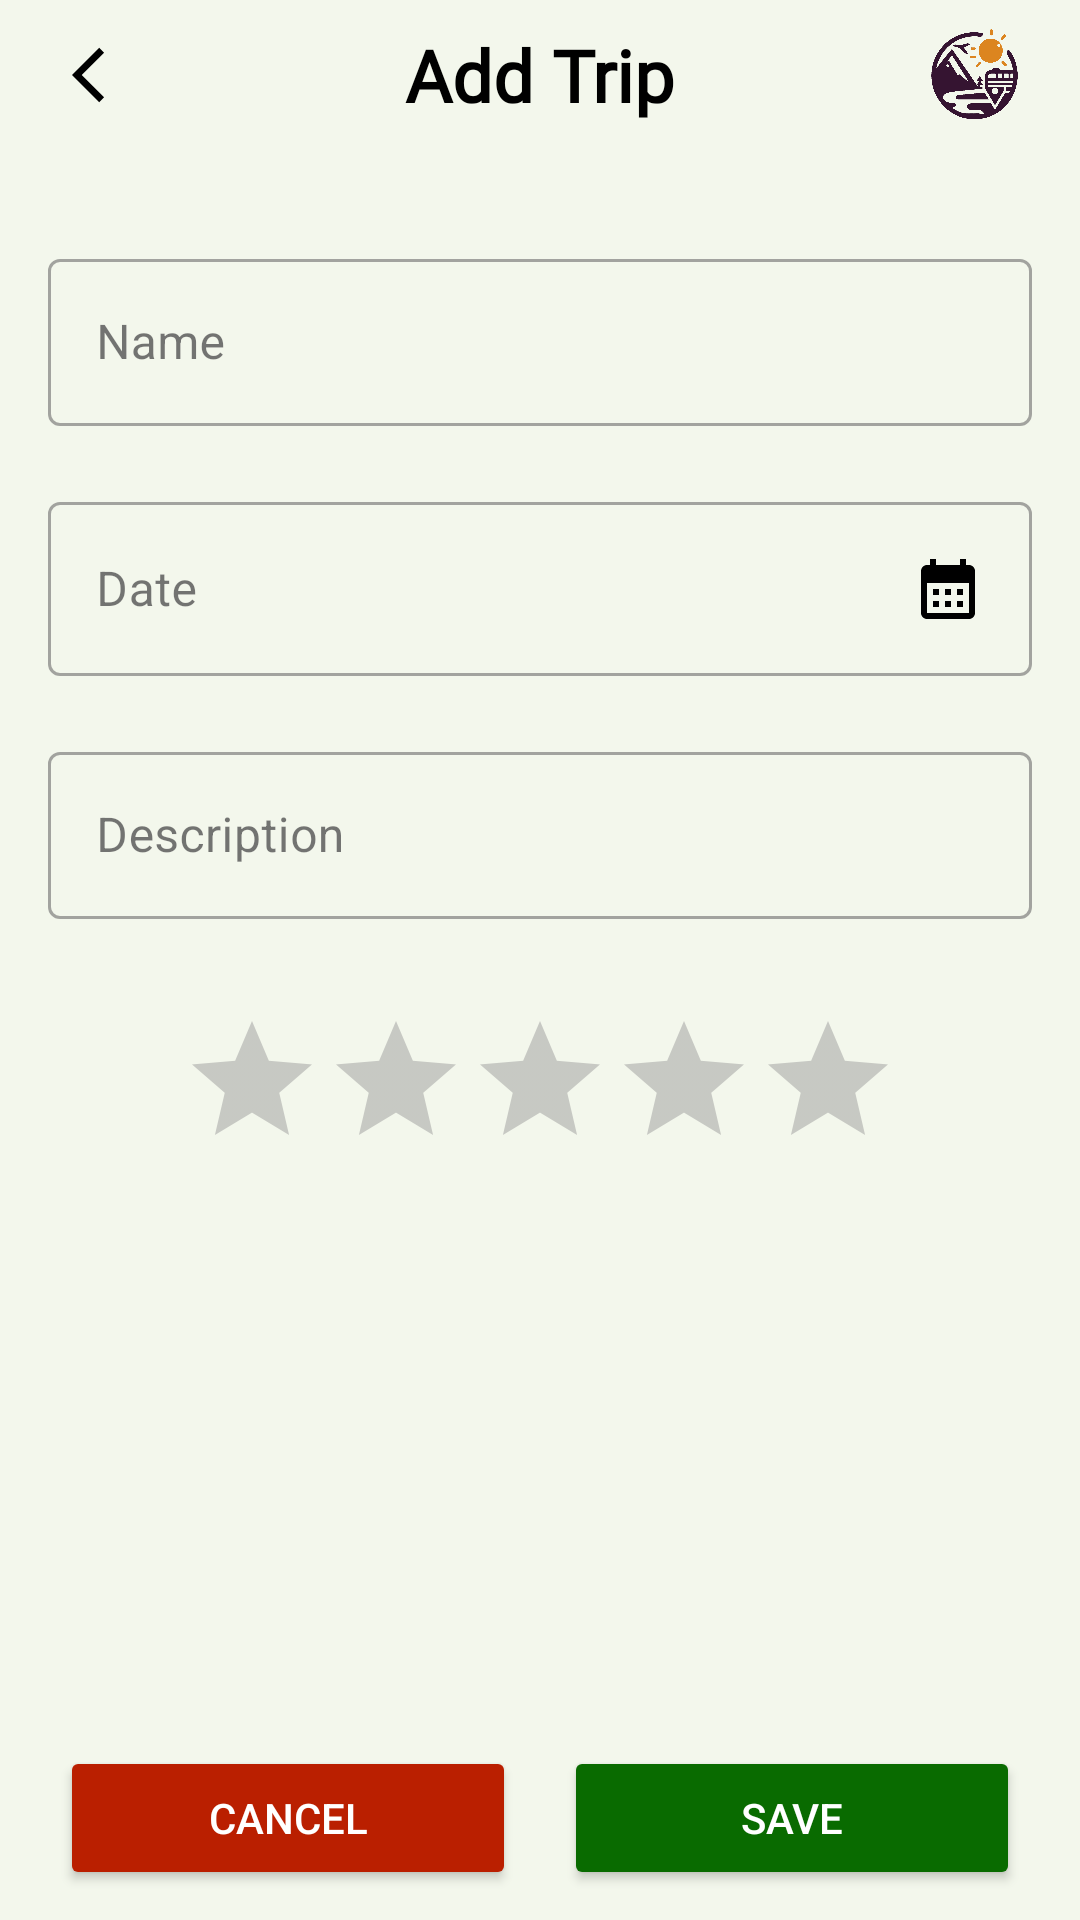

Screen size 1080w x 1920h. Icon name, then its center in pixels as [x,y]:
backward: [88,75]
